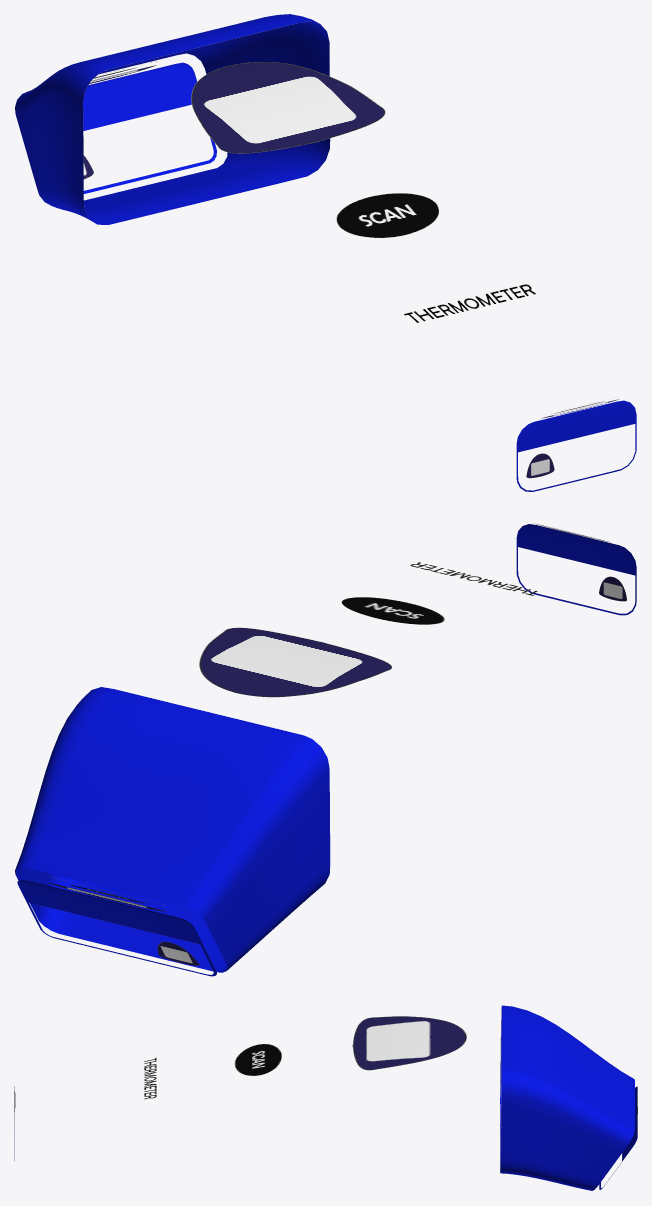
File: NewThermometer.fbx
The picture shows the model from 3 angles, top to bottom: view 1: azimuth 30°, elevation 25°; view 2: azimuth 150°, elevation 25°; view 3: azimuth 270°, elevation 25°; orthographic projection. The views are drawn at different scales.
Visible parts, largest first — view 1: NewThermometer; view 2: NewThermometer; view 3: NewThermometer.
Part boxes in pixels (x1,y1,x2,y2): NewThermometer: [15, 14, 636, 491]; NewThermometer: [15, 523, 636, 976]; NewThermometer: [14, 1005, 637, 1190].
Size of the model in its own units: 6.87 by 5.16 by 22.86.
